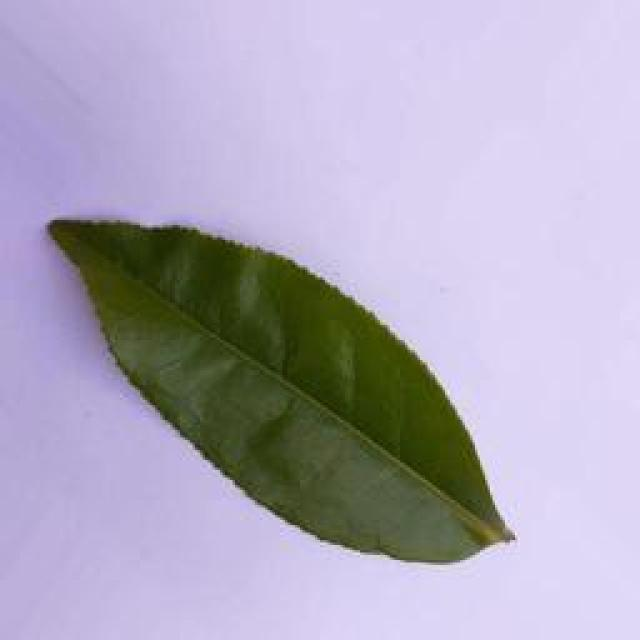Healthy: (41, 214, 518, 564)
